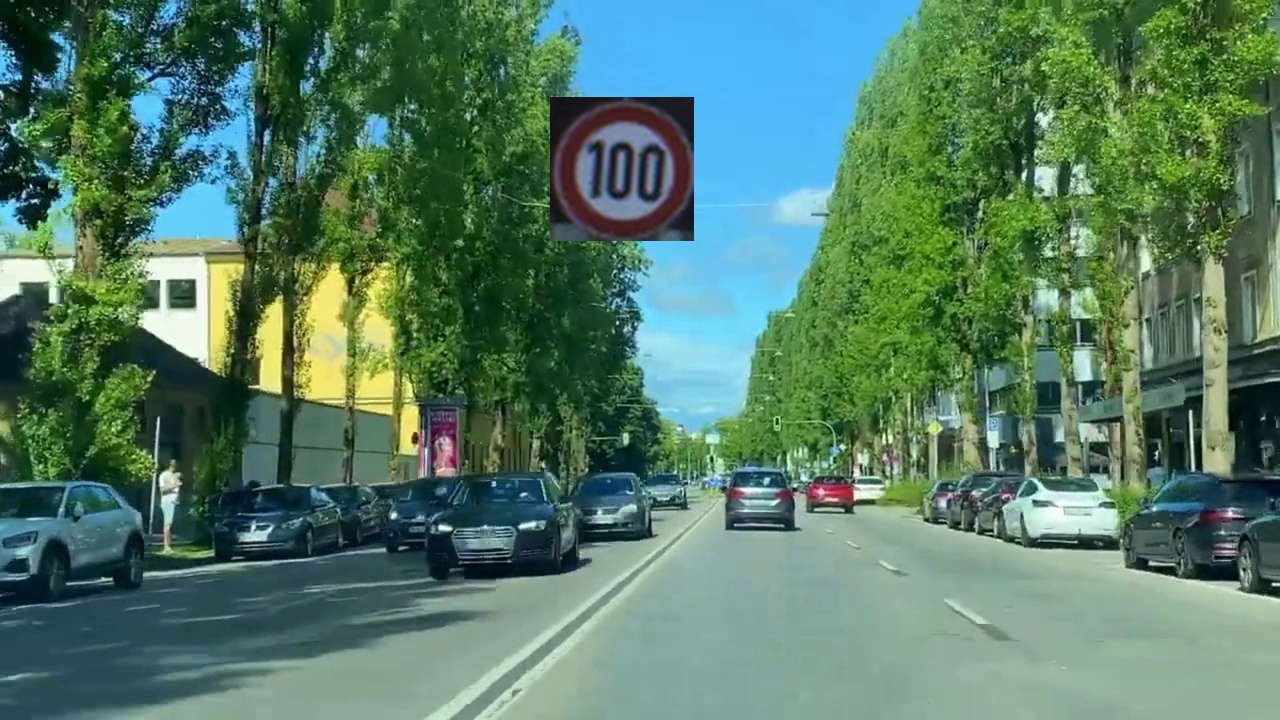Speed 100: (550, 97, 694, 241)
